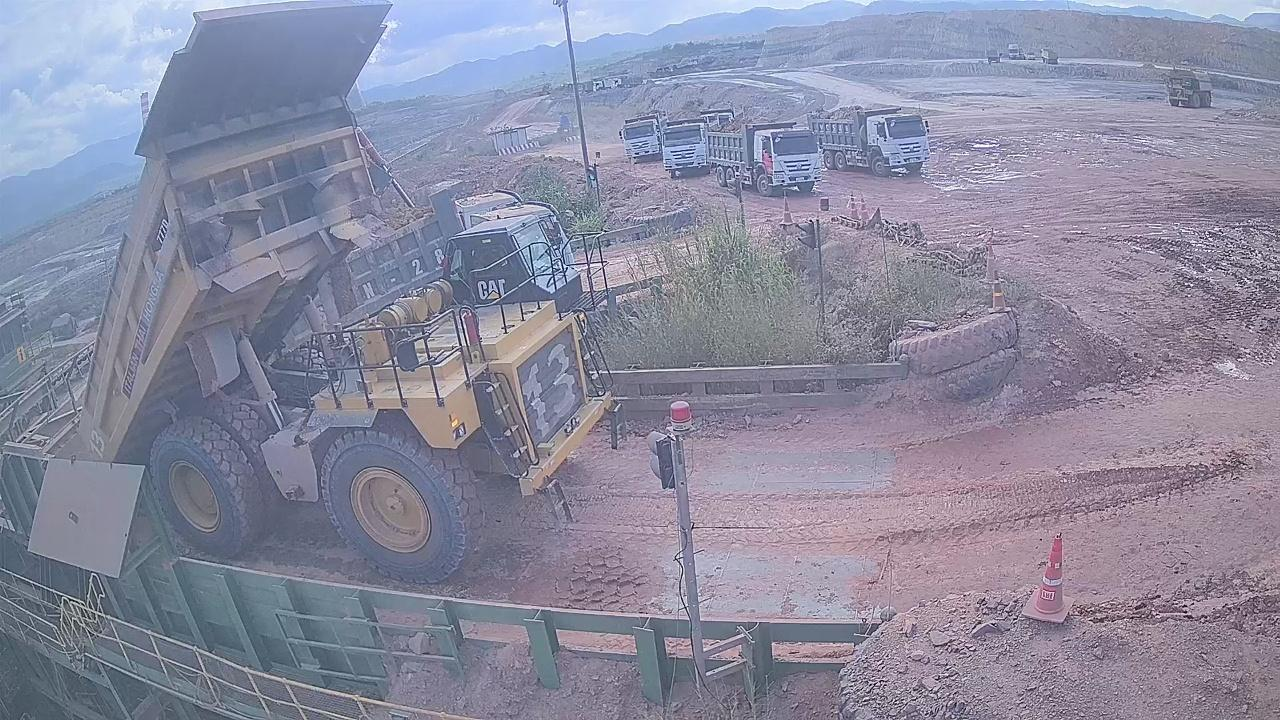company: (121, 262, 173, 399)
dumping_soil: (78, 0, 642, 589)
front_number: (516, 319, 592, 444)
tail_number: (82, 422, 112, 460)
truck_size: (144, 206, 180, 251)
